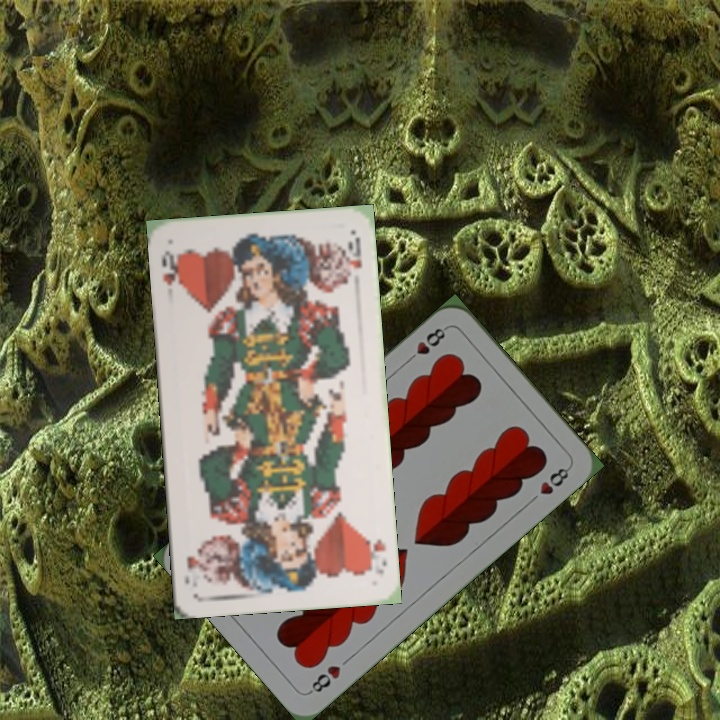H8: (402, 322, 451, 366), (305, 661, 344, 697)
HO: (362, 532, 390, 577), (158, 247, 185, 293)
